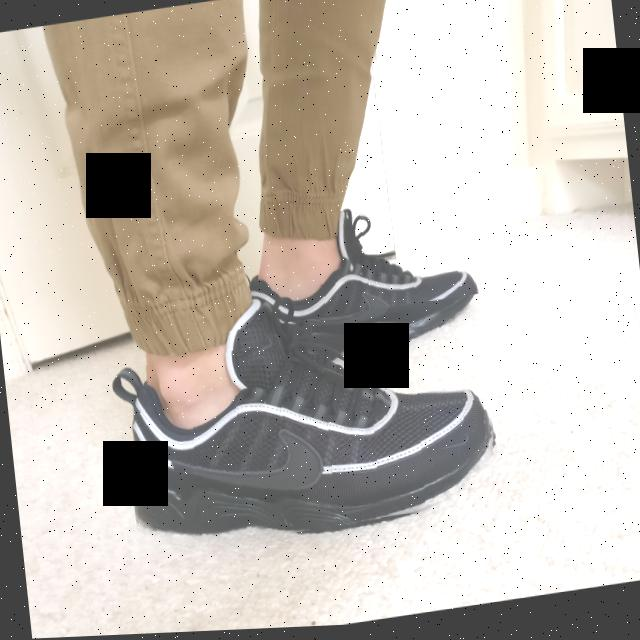shoe: (118, 296, 502, 561), (247, 197, 485, 371)
